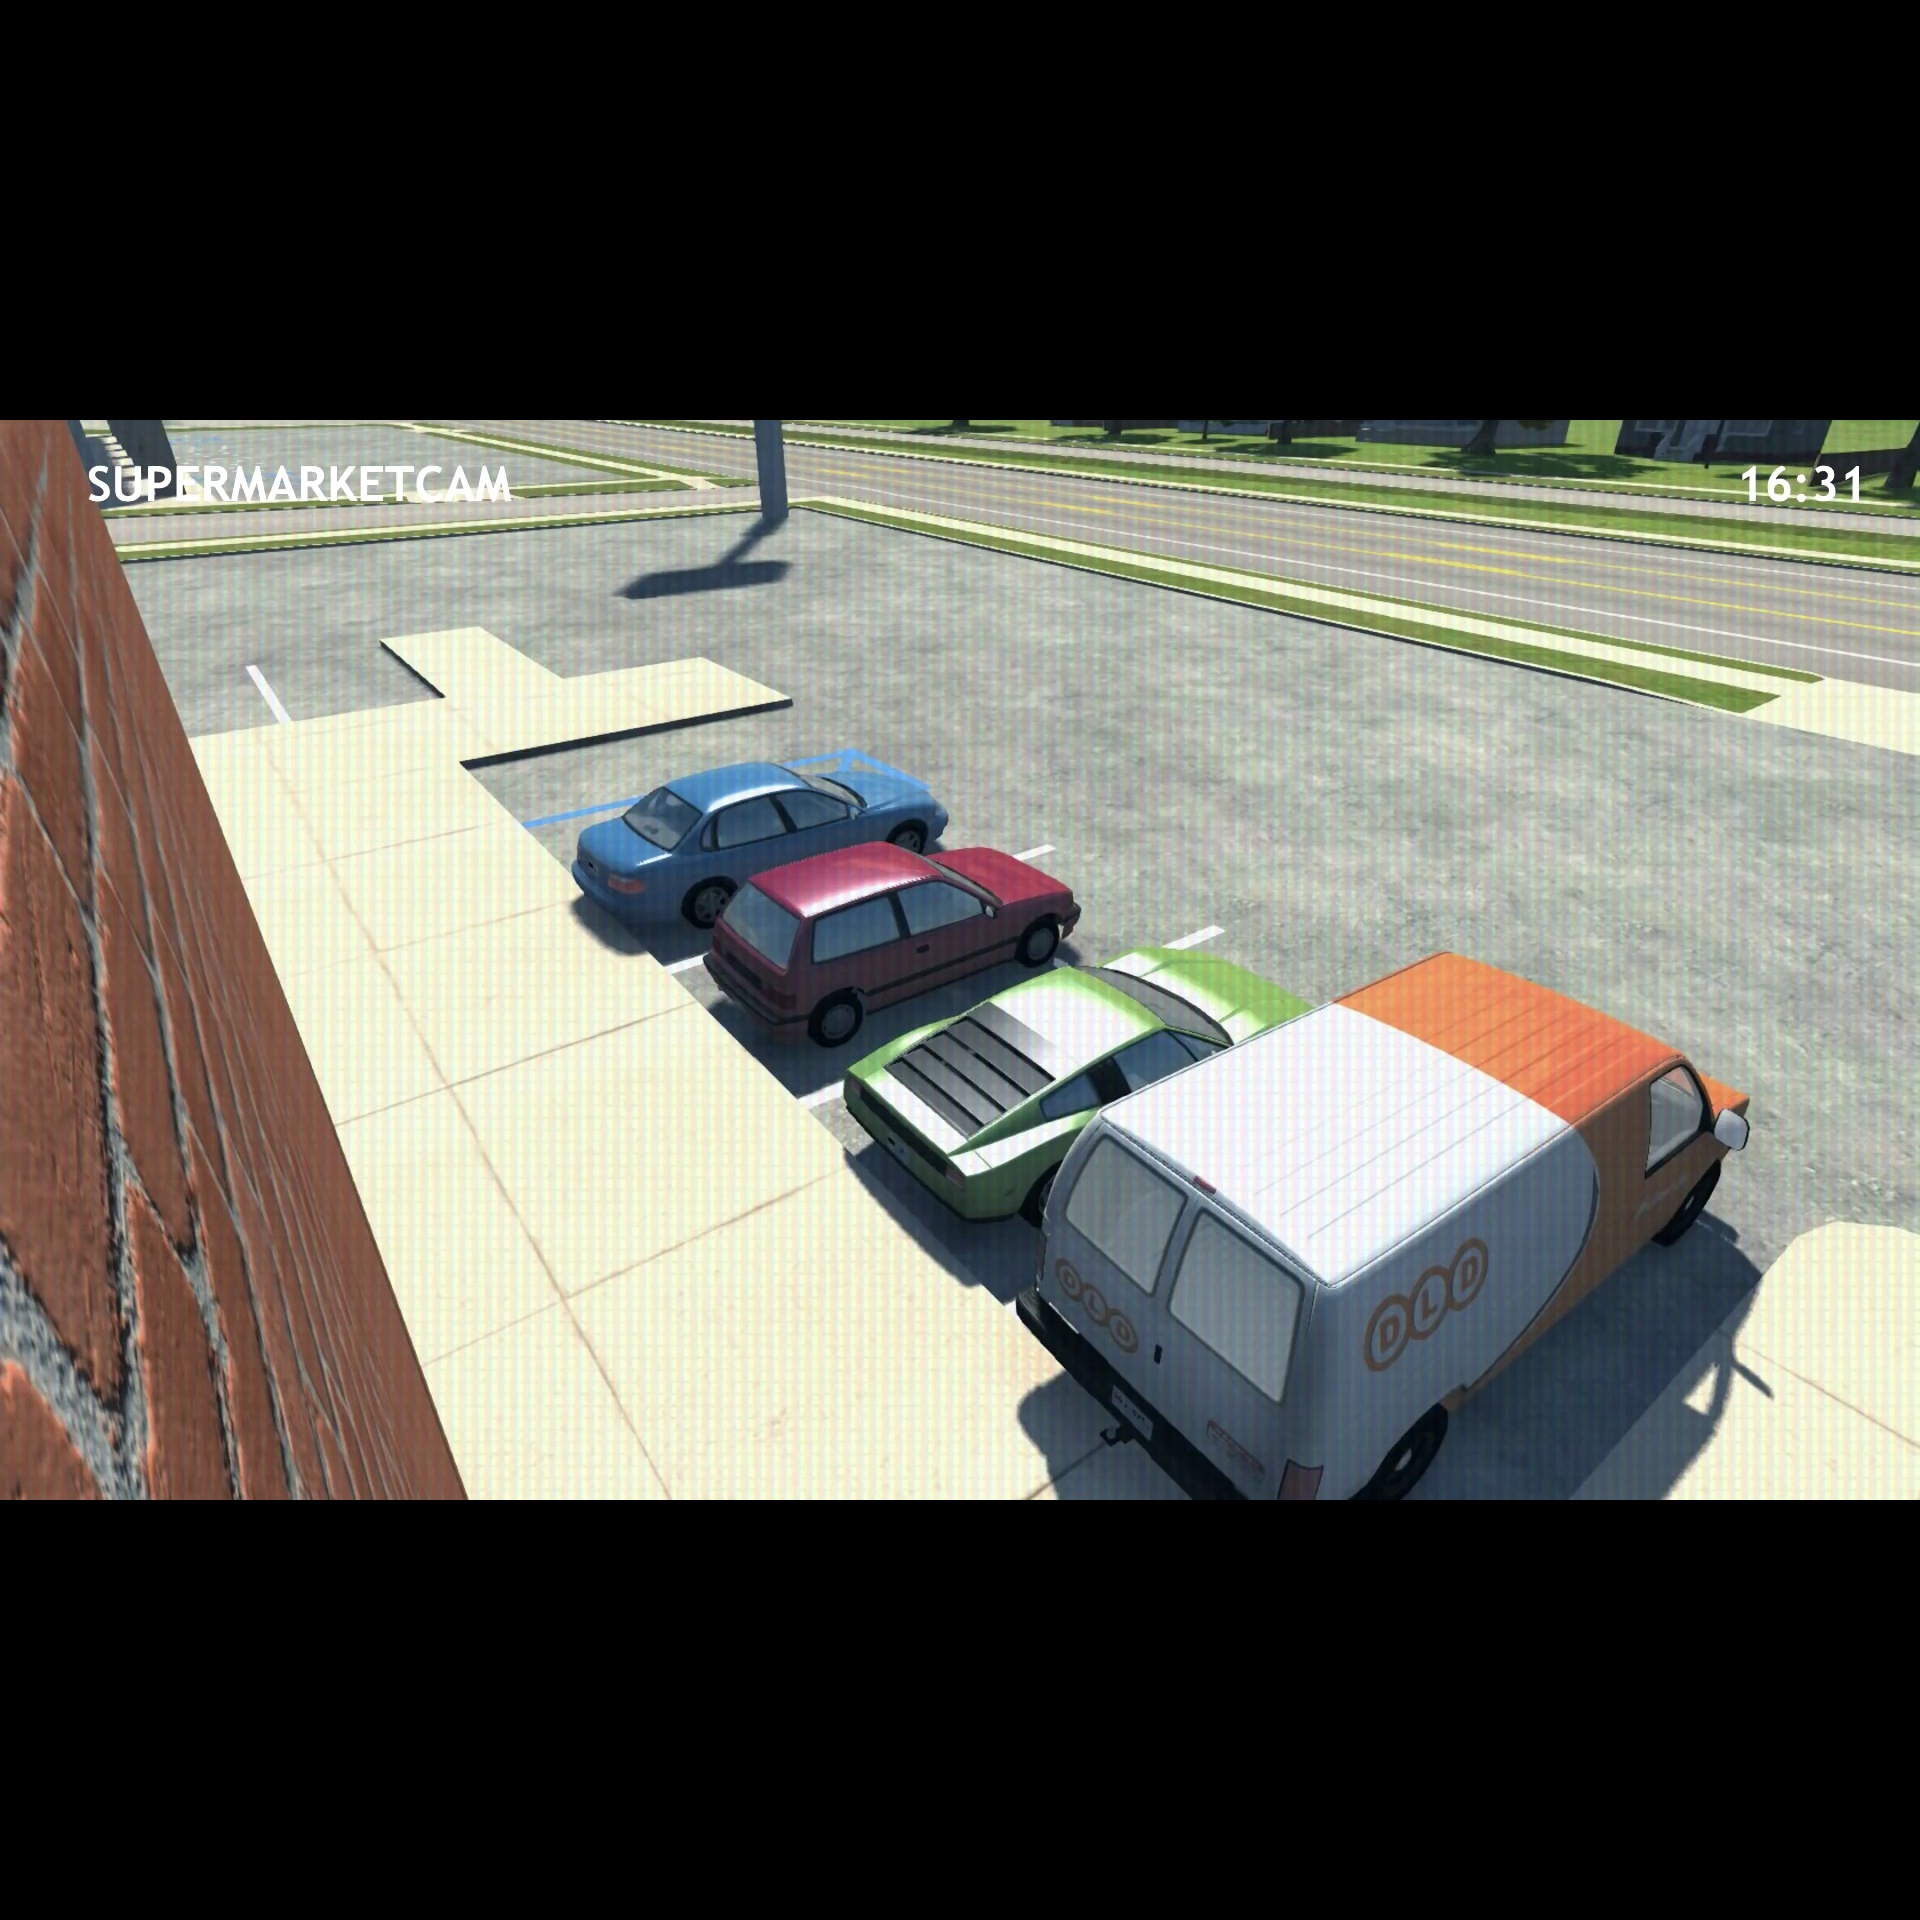vehicle: (1020, 948, 1758, 1500), (839, 934, 1319, 1225), (702, 833, 1081, 1060), (570, 751, 953, 934)
